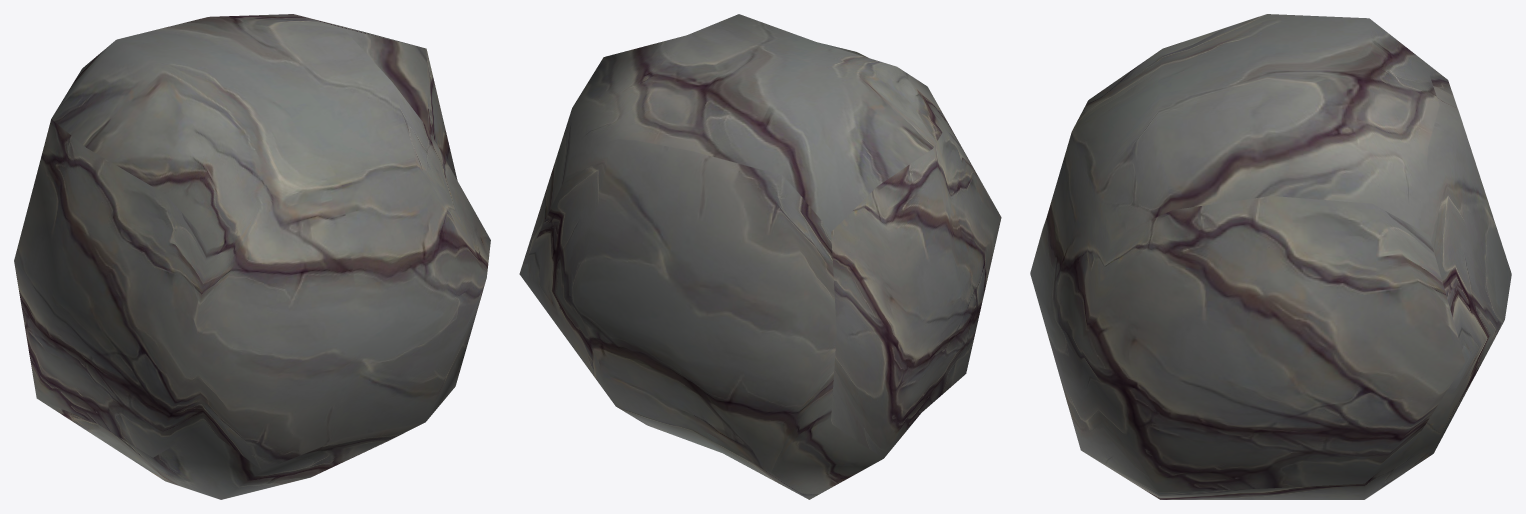
Rendered from Pedra.fbx.
3 renders of one model, left to right at view 1: azimuth 30°, elevation 25°; view 2: azimuth 150°, elevation 25°; view 3: azimuth 270°, elevation 25°, orthographic. The views are drawn at different scales.
Visible parts, largest first — view 1: pCube30; view 2: pCube30; view 3: pCube30.
Boxes of the visible parts, box(x1,y1,x2,y2) form: pCube30: box(14, 14, 490, 499); pCube30: box(519, 14, 1001, 499); pCube30: box(1030, 14, 1511, 499).
Bounding box in the file's own units: 14.74 × 14.17 × 14.31.
